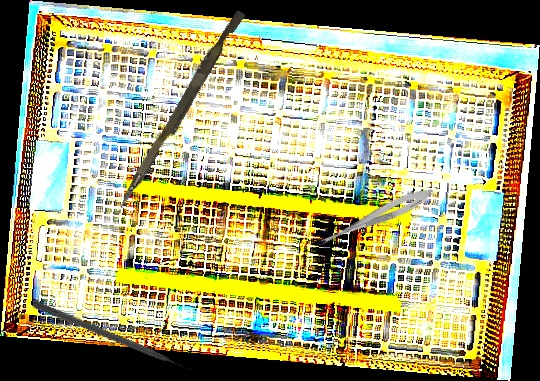Micro Scissor: (315, 182, 437, 254)
Pusher: (117, 6, 246, 214), (30, 299, 196, 377)
